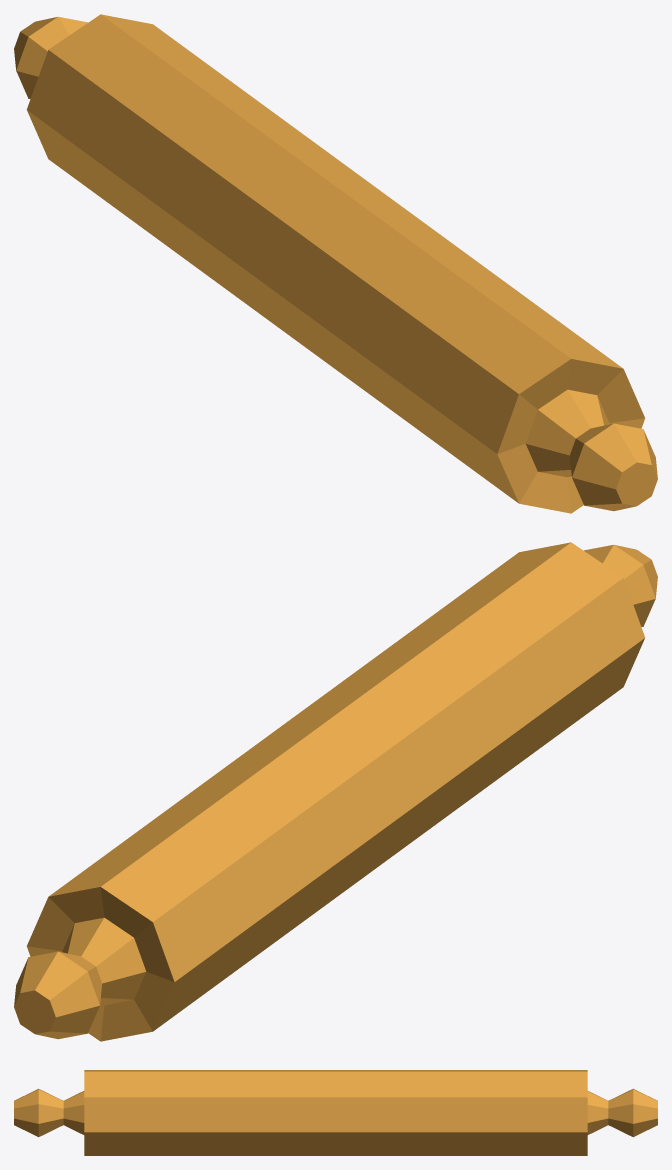
Rendered from egypt-egypt-papyrus-rolled.glb.
The picture shows the model from 3 angles, top to bottom: view 1: azimuth 30°, elevation 25°; view 2: azimuth 150°, elevation 25°; view 3: azimuth 270°, elevation 25°; orthographic projection. The views are drawn at different scales.
Parts seen in each view (by area): view 1: egypt-papyrus-rolled; view 2: egypt-papyrus-rolled; view 3: egypt-papyrus-rolled.
Part boxes in pixels (x1,y1,x2,y2): egypt-papyrus-rolled: (14, 14, 657, 513); egypt-papyrus-rolled: (14, 542, 657, 1041); egypt-papyrus-rolled: (14, 1070, 657, 1155).
Size of the model in its own units: 0.1079 by 0.1079 by 0.7605.
